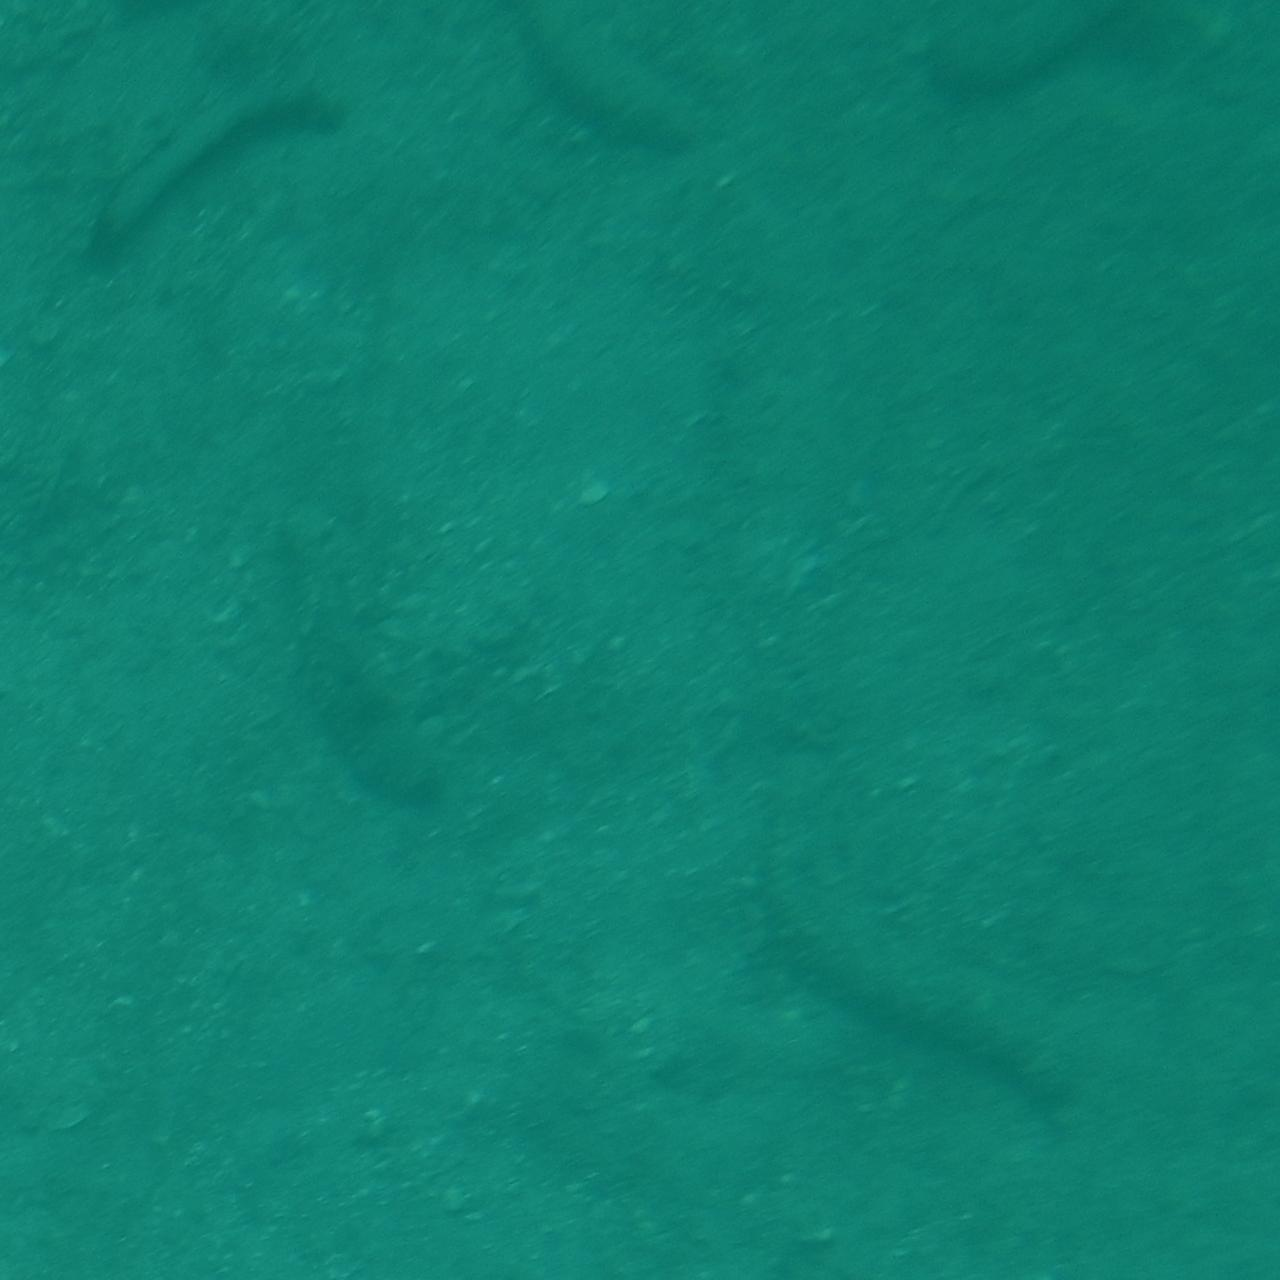Holothuria tubulosa: (742, 792, 1104, 1150), (193, 483, 452, 831), (67, 75, 363, 288), (418, 1, 729, 155), (912, 2, 1219, 130)
